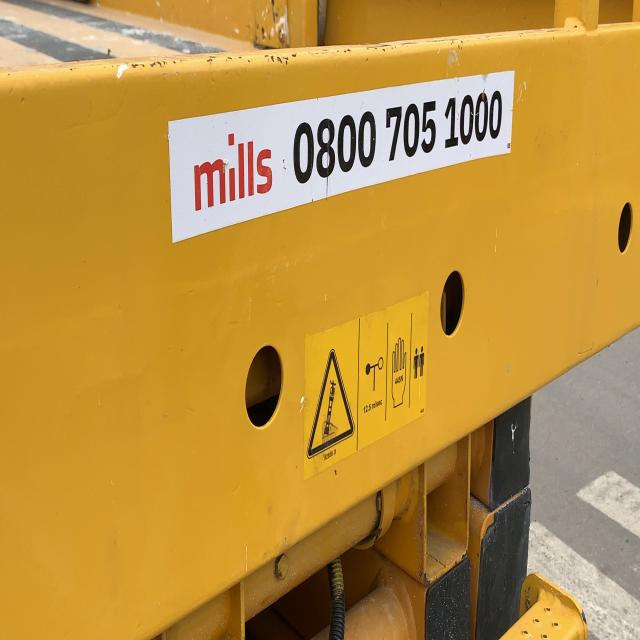Adesivo Longo: (165, 67, 518, 252)
